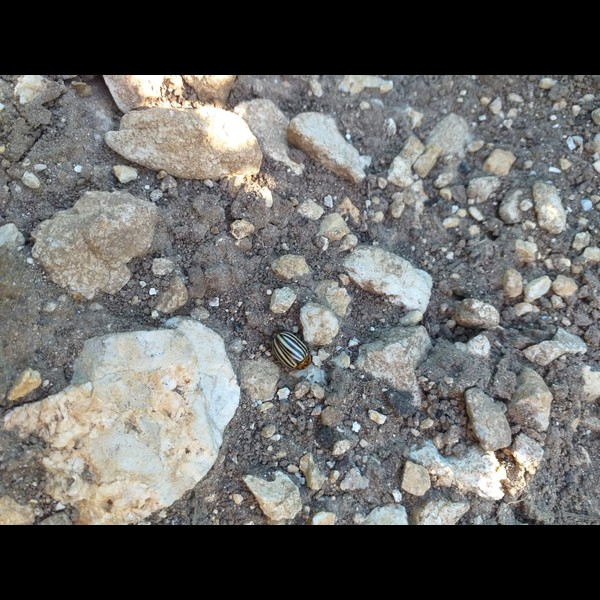hrosc: (269, 328, 315, 372)
